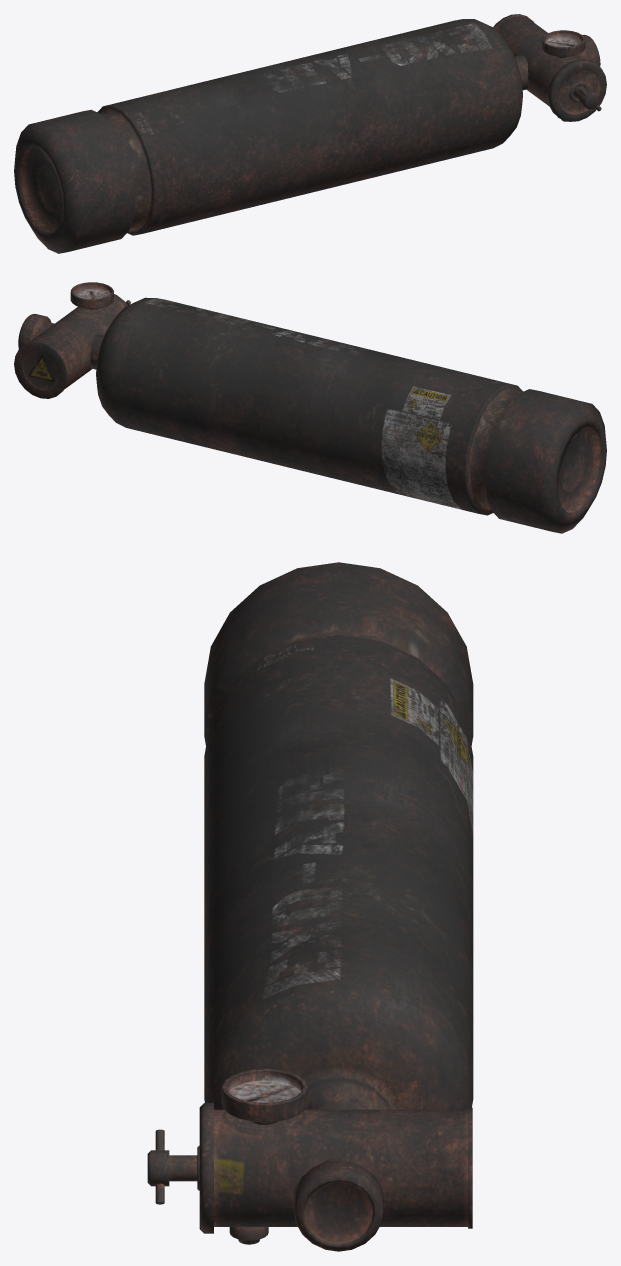
Rendered from oxygen_tank.glb.
3 views of the same model, one above another, from view 1: azimuth 30°, elevation 25°; view 2: azimuth 150°, elevation 25°; view 3: azimuth 270°, elevation 25° (orthographic). The views are drawn at different scales.
Parts seen in each view (by area): view 1: Object_2; view 2: Object_2; view 3: Object_2.
Boxes of the visible parts, x1=… form: Object_2: x1=14, y1=14, x2=606, y2=253; Object_2: x1=14, y1=282, x2=606, y2=533; Object_2: x1=147, y1=562, x2=473, y2=1251.
Bounding box in the file's own units: 0.4515 × 0.0956 × 0.1157.
Materials: 1 (1 with a texture image).
